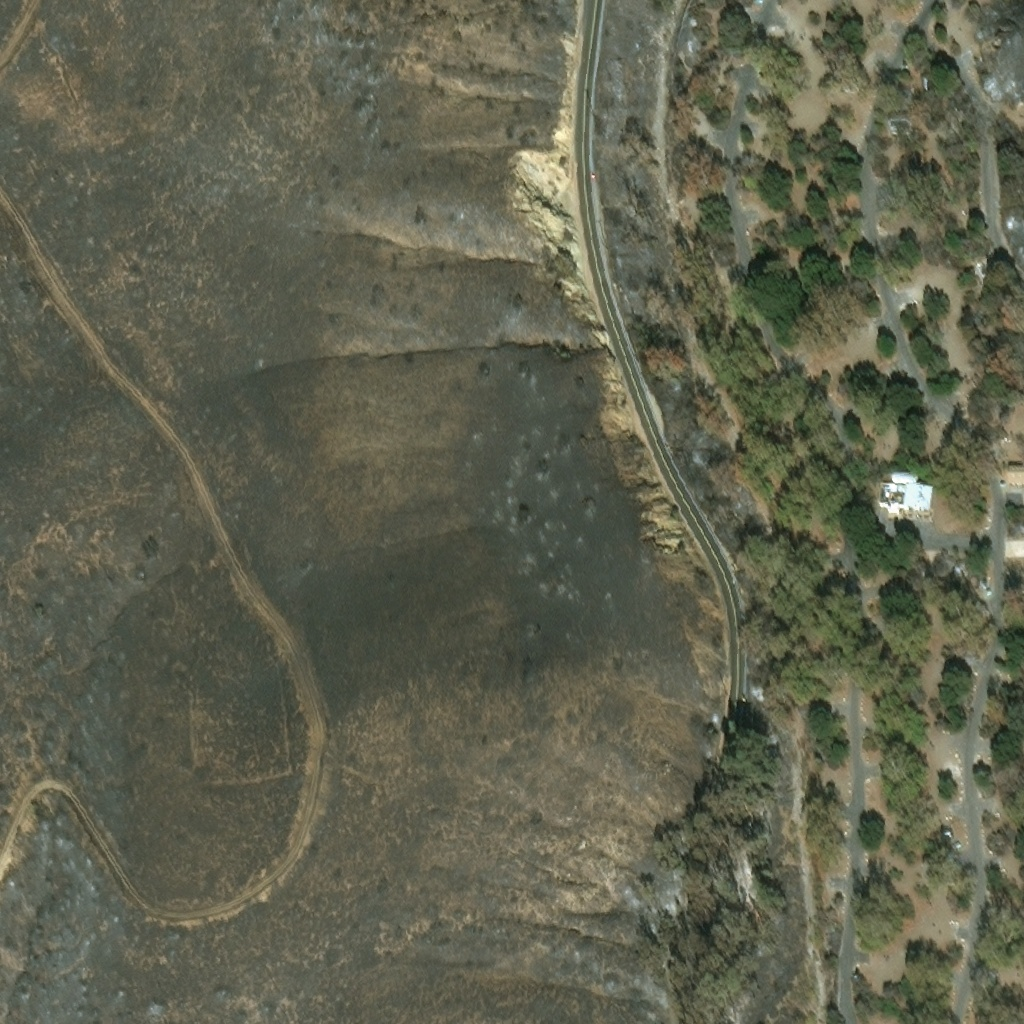0 no-damage: (874, 472, 931, 520), (1005, 465, 1023, 484), (942, 833, 948, 836)
3 destroyed: (886, 119, 910, 130), (917, 74, 924, 89)
4 un-classified: (920, 858, 942, 875), (958, 653, 981, 669), (732, 9, 753, 23), (1005, 546, 1023, 557), (870, 619, 884, 629), (870, 629, 884, 636), (889, 817, 896, 826)
